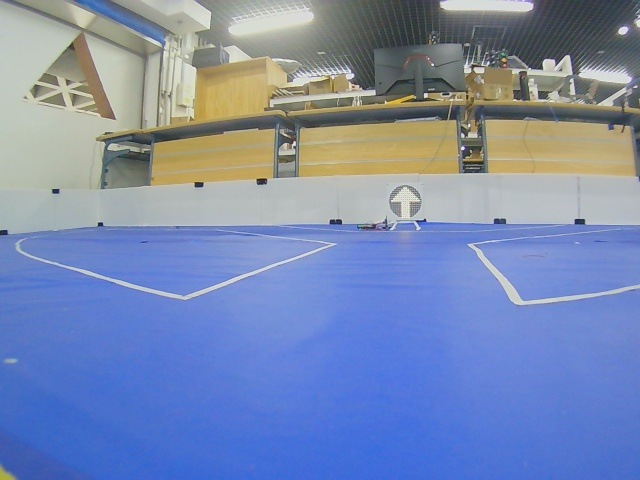straight_yellow: (388, 183, 423, 220)
